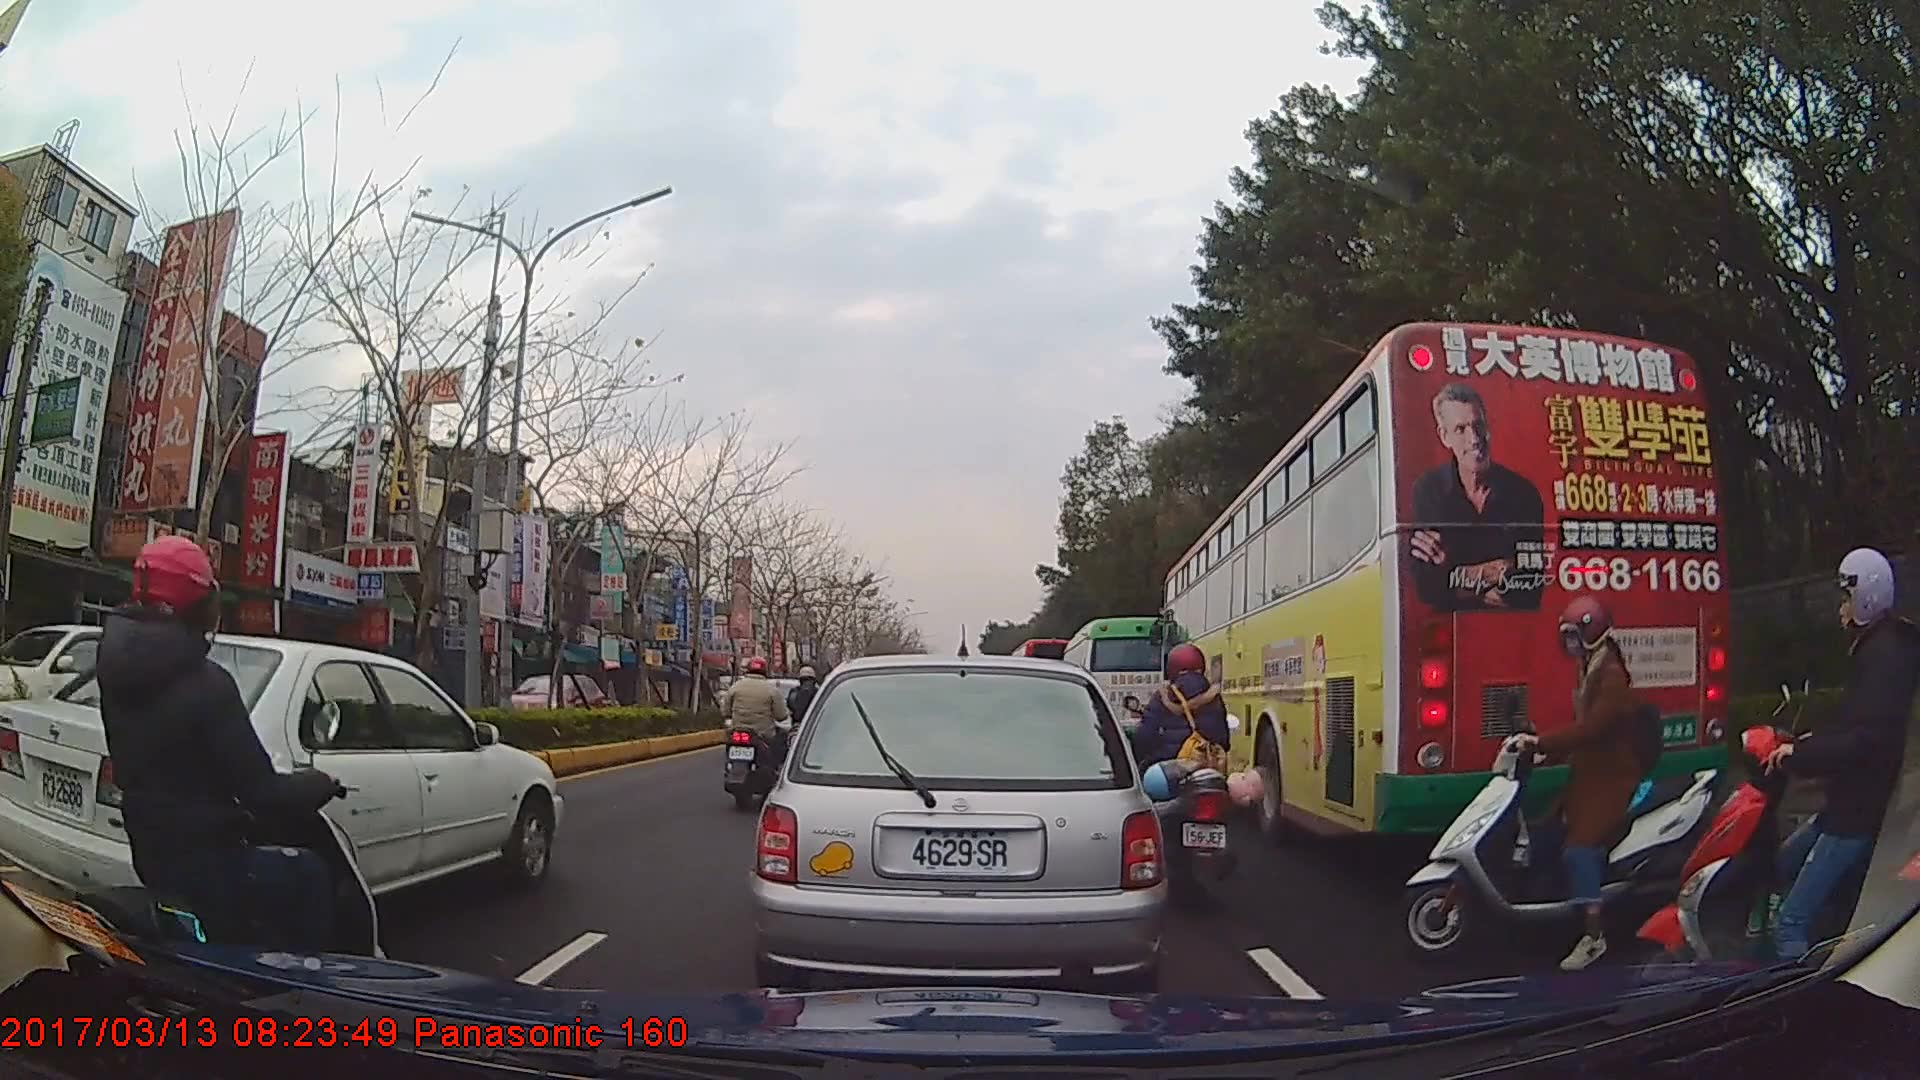rider: (66, 535, 386, 1017), (1390, 592, 1725, 969), (1642, 549, 1912, 999), (1124, 646, 1266, 911), (720, 656, 786, 812), (786, 667, 833, 762)
vehicle: (1159, 319, 1731, 846), (13, 627, 564, 946), (746, 654, 1167, 994), (0, 621, 238, 741), (1060, 615, 1171, 757), (501, 670, 606, 735)
